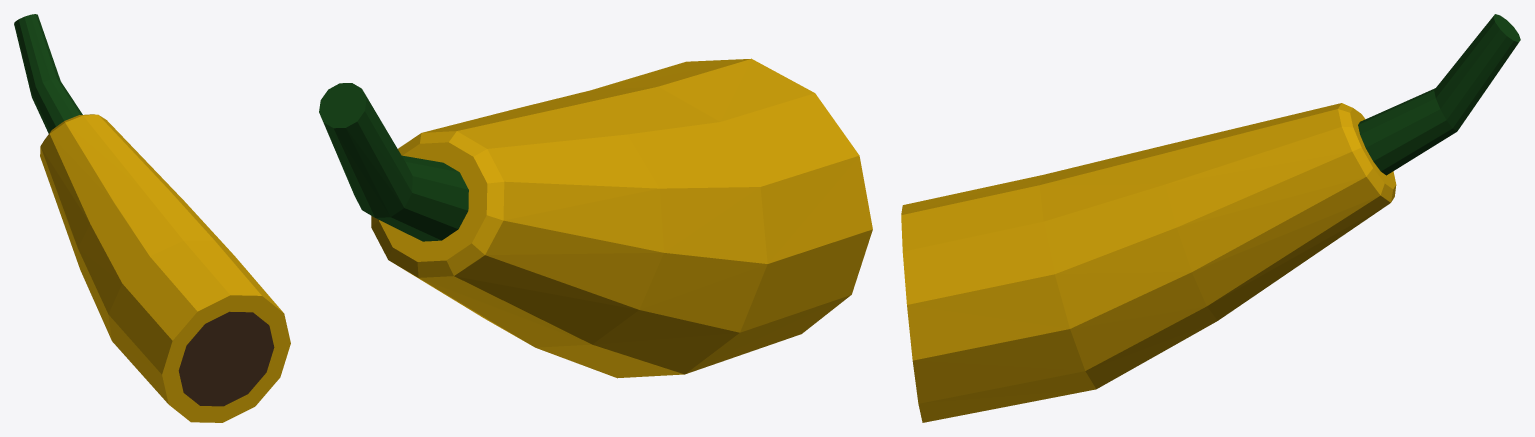
Rendered from banana_cut2.fbx.
The picture shows the model from 3 angles, left to right: view 1: azimuth 30°, elevation 25°; view 2: azimuth 150°, elevation 25°; view 3: azimuth 270°, elevation 25°; orthographic projection. The views are drawn at different scales.
Parts seen in each view (by area): view 1: Banana_Cut.2; view 2: Banana_Cut.2; view 3: Banana_Cut.2.
Boxes of the visible parts, x1,y1,x2,y2 form: Banana_Cut.2: (14,14,290,422); Banana_Cut.2: (319,58,872,378); Banana_Cut.2: (901,14,1520,422).
Bounding box in the file's own units: 68.85 × 136 × 192.
